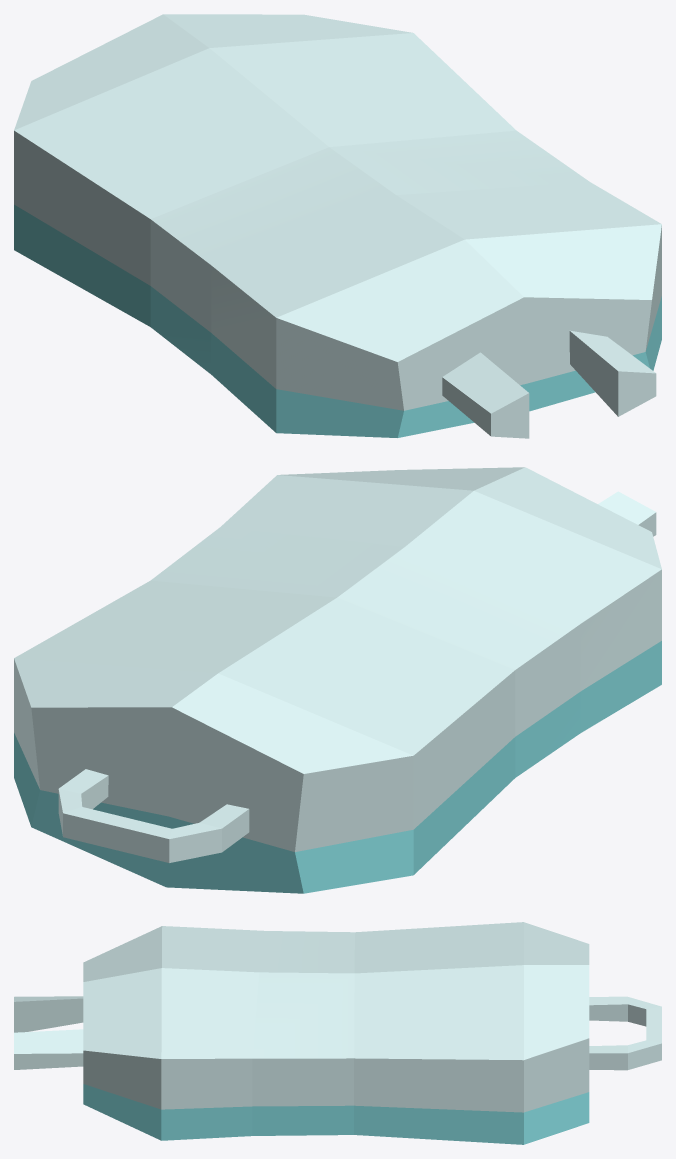
The model's file is apocalypse_water-bag.fbx.
3 renders of one model, top to bottom at view 1: azimuth 30°, elevation 25°; view 2: azimuth 150°, elevation 25°; view 3: azimuth 270°, elevation 25°, orthographic. The views are drawn at different scales.
Parts seen in each view (by area): view 1: apocalypse_water_bag; view 2: apocalypse_water_bag; view 3: apocalypse_water_bag.
Boxes of the visible parts, x1,y1,x2,y2 form: apocalypse_water_bag: [14, 14, 661, 438]; apocalypse_water_bag: [14, 467, 661, 893]; apocalypse_water_bag: [14, 922, 661, 1144].
Bounding box in the file's own units: 101 × 43.78 × 200.
